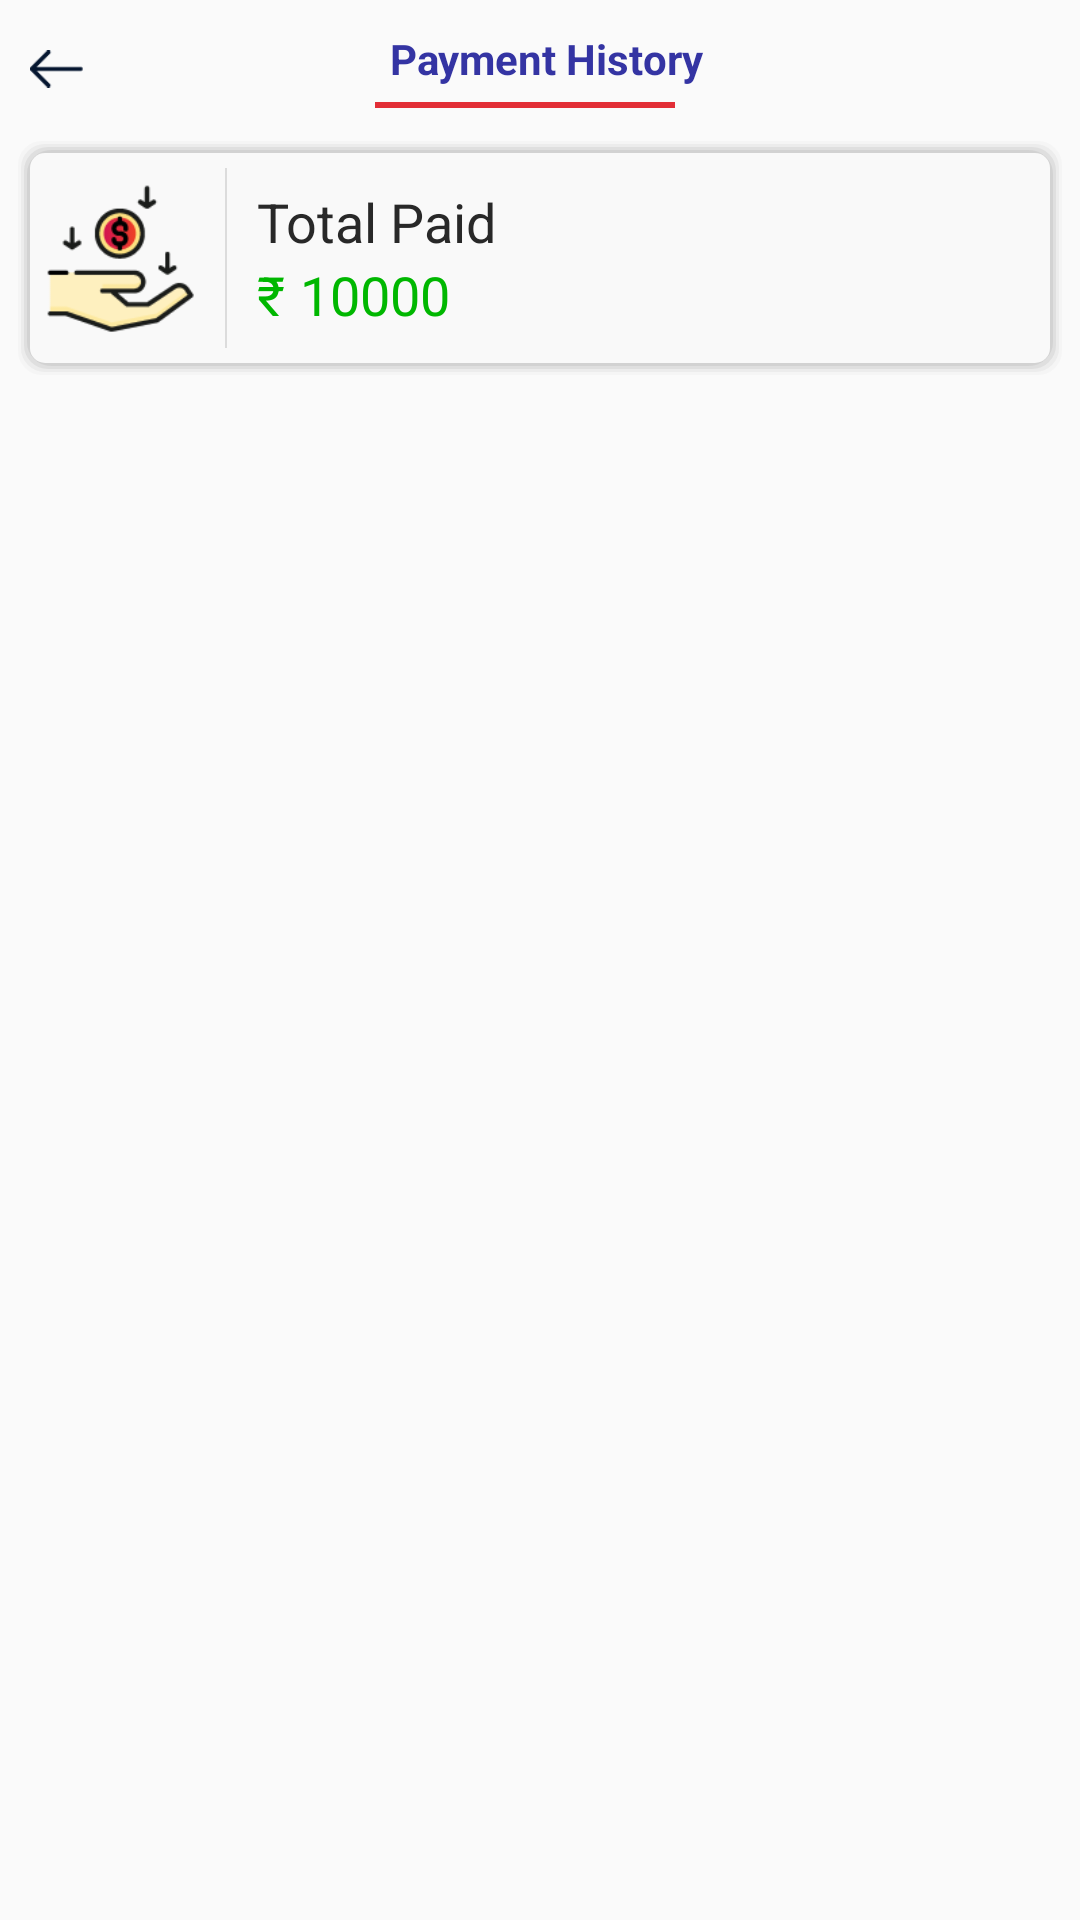

Icons on this 1080w x 1920h Android screen, each with the point to tap as [x,y]:
back: [56,69]
hand doller: [120,258]
